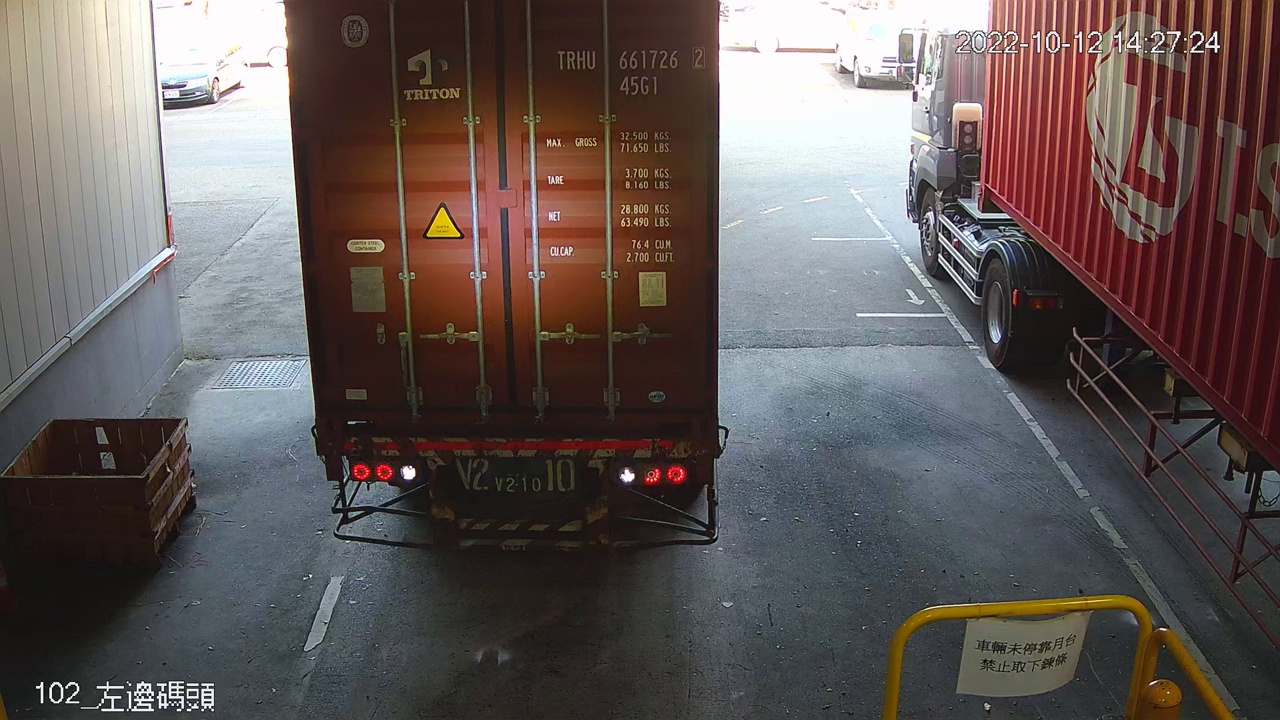container: (550, 41, 708, 102)
